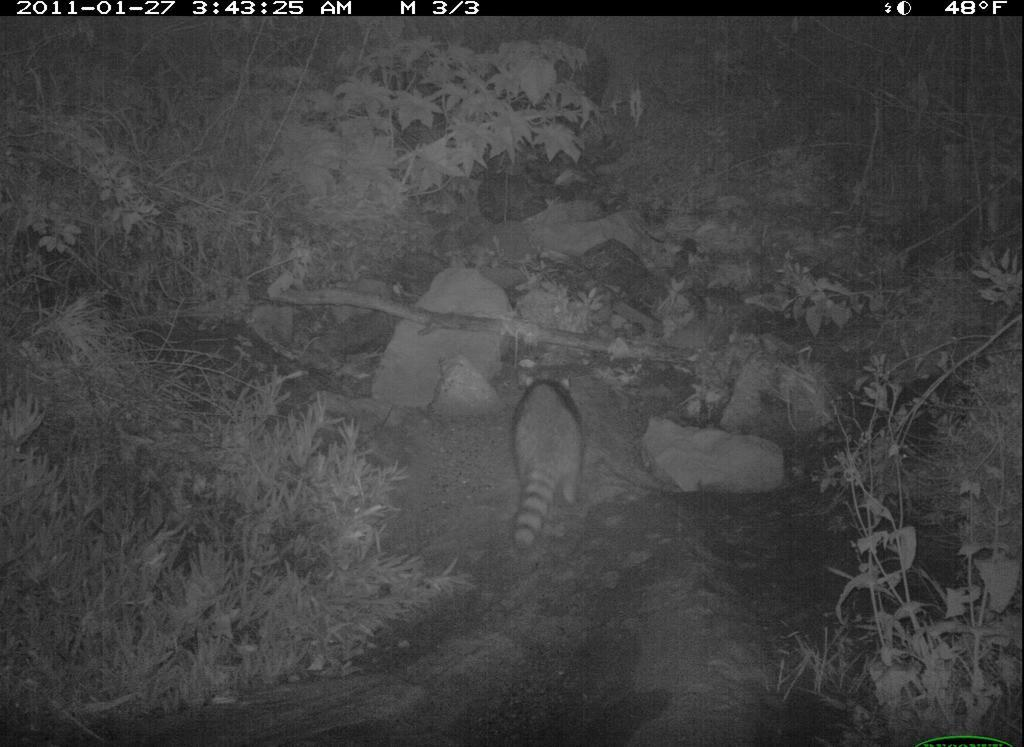raccoon: (505, 370, 588, 555)
